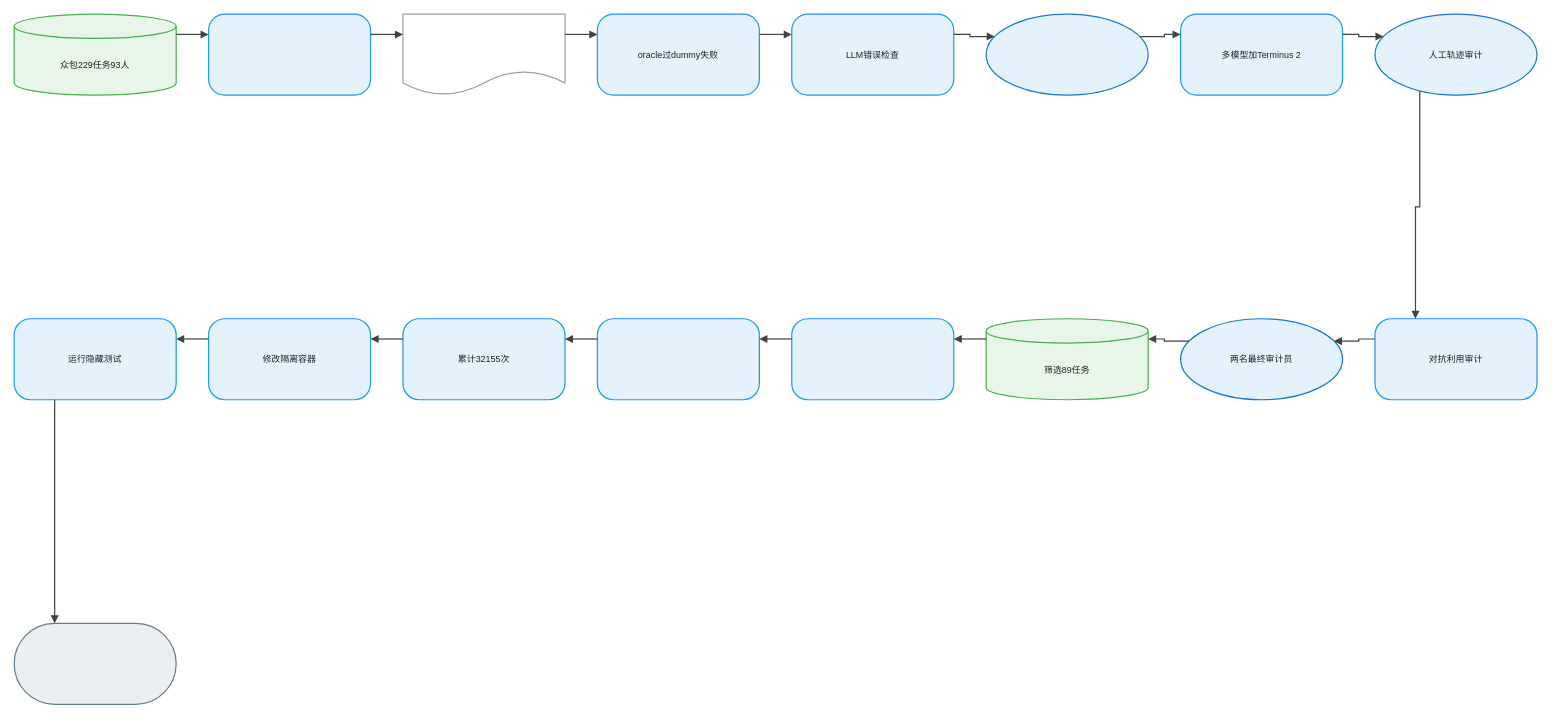
This 1552x719 diagram has some shape labels left out. Each missing label, with the centre of its shape:
"6智能体乘16模型" belongs at point 872,359.
"专家初审" belongs at point 1066,54.
"打包任务与oracle" belongs at point 289,54.
"每组合至少5次" belongs at point 678,359.
"解决率加95%区间" belongs at point 94,663.
"贡献者检查清单" belongs at point 483,54.
